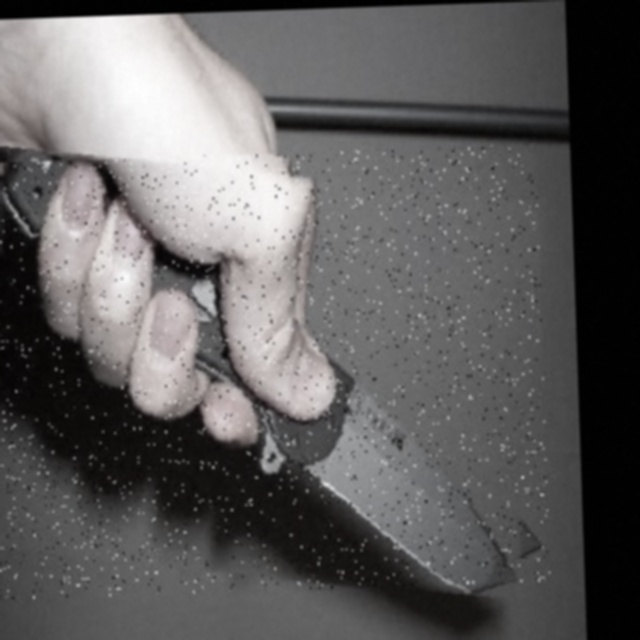Sharp-Object: (0, 144, 550, 601)
